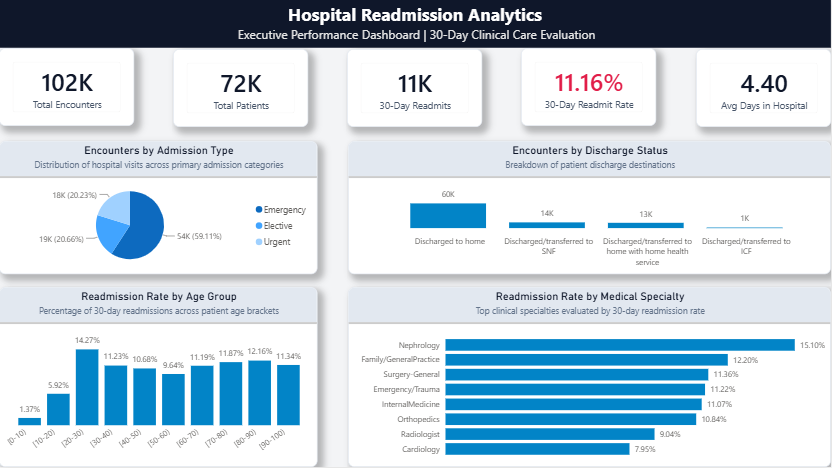

What the dashboard file says about the page in this screenshot:
{"tool":"powerbi","page":{"name":"Page 1","canvas":[1280,720],"ordinal":0},"visuals":[{"type":"shape","box":[0,0,1279.8,75.1],"z":0},{"type":"textbox","box":[0,0,1279.8,75.1],"z":1000},{"type":"cardVisual","fields":{"Data":["_Key_Measures.Total Encounters"]},"box":[0,75.1,208,120.5],"z":2000},{"type":"cardVisual","fields":{"Data":["_Key_Measures.Total Patients"]},"box":[267.9,76.5,208,120.5],"z":3000},{"type":"cardVisual","fields":{"Data":["_Key_Measures.30-Day Readmissions"]},"box":[535.8,76.5,208,120.5],"z":4000},{"type":"cardVisual","fields":{"Data":["_Key_Measures.30-Day Readmission Rate %"]},"box":[803.8,75.1,208,120.5],"z":5000},{"type":"cardVisual","fields":{"Data":["_Key_Measures.Avg Days in Hospital"]},"box":[1071.7,76.7,208,120.5],"z":6000},{"type":"pieChart","title":"Encounters by Admission Type","fields":{"Category":["dim_admission_type.description"],"Y":["_Key_Measures.Total Encounters"]},"box":[0,218.3,490,205],"z":7000},{"type":"clusteredColumnChart","title":"Encounters by Discharge Status","fields":{"Category":["dim_discharge_disposition.description"],"Y":["_Key_Measures.Total Encounters"]},"box":[536.7,218.3,743.3,205],"z":8000},{"type":"clusteredColumnChart","title":"Readmission Rate by Age Group","fields":{"Y":["_Key_Measures.30-Day Readmit Rate"],"Category":["fact_diabetic_encounters.age"]},"box":[0,443.3,490,276.7],"z":9000},{"type":"clusteredBarChart","title":"Readmission Rate by Medical Specialty","fields":{"Category":["fact_diabetic_encounters.medical_specialty"],"Y":["_Key_Measures.30-Day Readmit Rate"]},"box":[536.7,443.3,743.3,276.7],"z":10000}]}

Visuals, with their boxes in screenshot pixels (x1, y1, x2, y2), scaled from the page's 1280x720 canvas onto the 832x468 screenshot:
shape: BBox(0, 0, 831, 49)
textbox: BBox(0, 0, 831, 49)
cardVisual - _Key_Measures.Total Encounters: BBox(0, 49, 135, 127)
cardVisual - _Key_Measures.Total Patients: BBox(174, 50, 309, 128)
cardVisual - _Key_Measures.30-Day Readmissions: BBox(348, 50, 483, 128)
cardVisual - _Key_Measures.30-Day Readmission Rate %: BBox(522, 49, 658, 127)
cardVisual - _Key_Measures.Avg Days in Hospital: BBox(697, 50, 831, 128)
"Encounters by Admission Type" pieChart: BBox(0, 142, 318, 275)
"Encounters by Discharge Status" clusteredColumnChart: BBox(349, 142, 831, 275)
"Readmission Rate by Age Group" clusteredColumnChart: BBox(0, 288, 318, 467)
"Readmission Rate by Medical Specialty" clusteredBarChart: BBox(349, 288, 831, 467)
